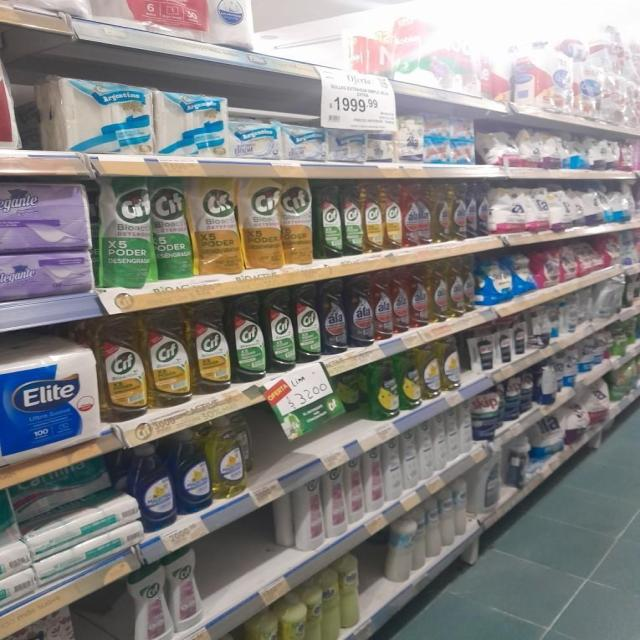ala_conc_amarillo: (429, 261, 447, 323), (433, 184, 450, 243), (448, 259, 464, 318), (452, 184, 466, 241)
ala_conc_azul: (320, 279, 346, 355), (347, 274, 372, 348), (477, 185, 490, 238), (466, 185, 476, 239)
ala_conc_rojo: (373, 270, 391, 340), (392, 266, 409, 335), (410, 264, 427, 328), (403, 184, 420, 248), (418, 183, 432, 246)
ala_crem_amarillo: (341, 555, 360, 632), (323, 568, 340, 640), (281, 594, 306, 640), (306, 578, 322, 640), (252, 608, 280, 640)
ala_crem_blanco: (427, 496, 441, 558), (441, 486, 455, 548)
cif_conc_bot_amarilla: (98, 312, 145, 421), (147, 305, 189, 408), (191, 298, 229, 394), (363, 184, 382, 253), (384, 184, 402, 251)
cif_conc_botella_verde: (230, 293, 264, 382), (266, 286, 294, 372), (314, 182, 342, 260), (295, 282, 319, 362), (342, 183, 362, 256)
cif_conc_sachet_amarillo: (192, 177, 238, 275), (240, 177, 280, 270), (281, 178, 313, 266)
cif_conc_sachet_verde: (96, 176, 152, 288), (153, 177, 190, 280)
magistral_con_azul: (132, 442, 172, 532), (174, 429, 210, 515)
